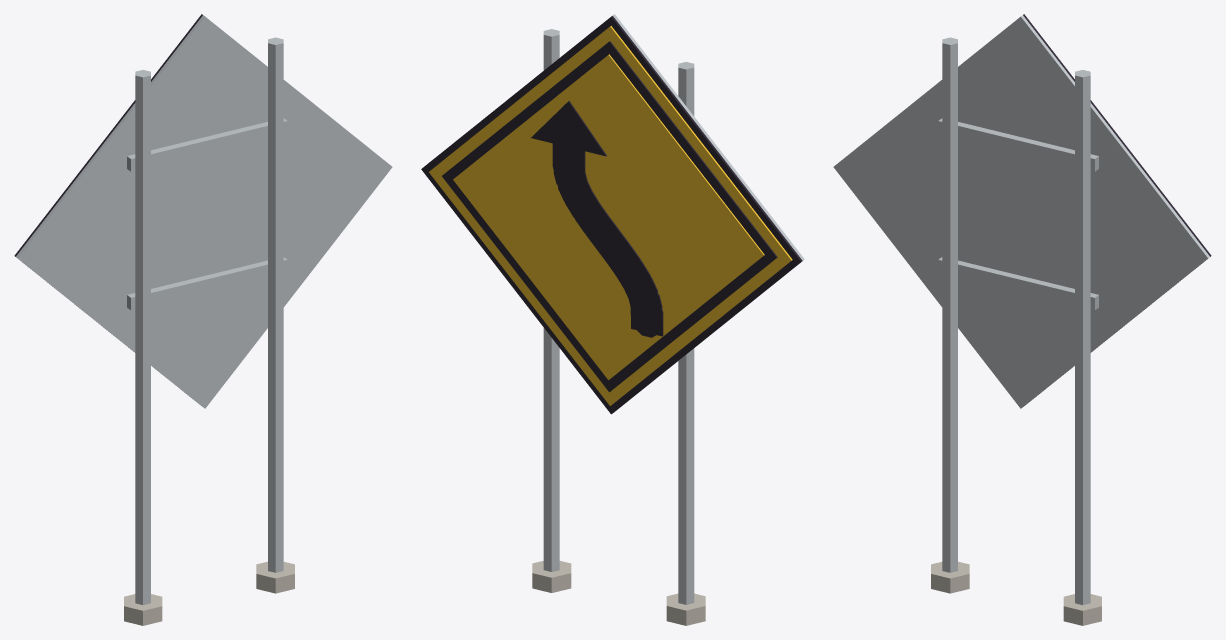
File: corner_warn_series_left.glb
3 views of the same model, side by side, from view 1: azimuth 30°, elevation 25°; view 2: azimuth 150°, elevation 25°; view 3: azimuth 330°, elevation 25° (orthographic).
Visible parts, largest first — view 1: corner_warn_series_left; view 2: corner_warn_series_left; view 3: corner_warn_series_left.
Part boxes in pixels (<box>): corner_warn_series_left: <box>14,14,392,625</box>; corner_warn_series_left: <box>421,14,804,625</box>; corner_warn_series_left: <box>833,14,1211,625</box>.
Bounding box in the file's own units: 3.11 × 4.61 × 0.2996.
